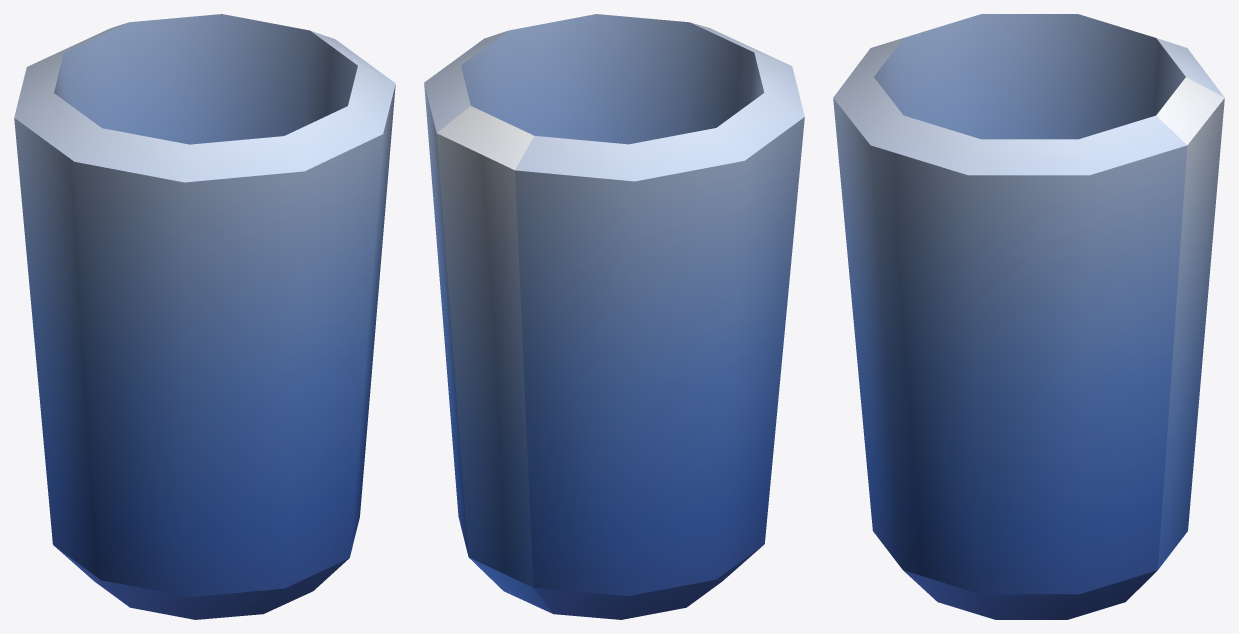
Rendered from m_ShotGlass02.fbx.
The picture shows the model from 3 angles, left to right: view 1: azimuth 30°, elevation 25°; view 2: azimuth 150°, elevation 25°; view 3: azimuth 270°, elevation 25°; orthographic projection.
Visible parts, largest first — view 1: m_ShotGlass02; view 2: m_ShotGlass02; view 3: m_ShotGlass02.
Part boxes in pixels (box(x1,y1,x2,y2)): m_ShotGlass02: box(14, 14, 395, 619); m_ShotGlass02: box(424, 14, 804, 619); m_ShotGlass02: box(833, 14, 1224, 619).
Size of the model in its own units: 8.18 by 12 by 8.6.
